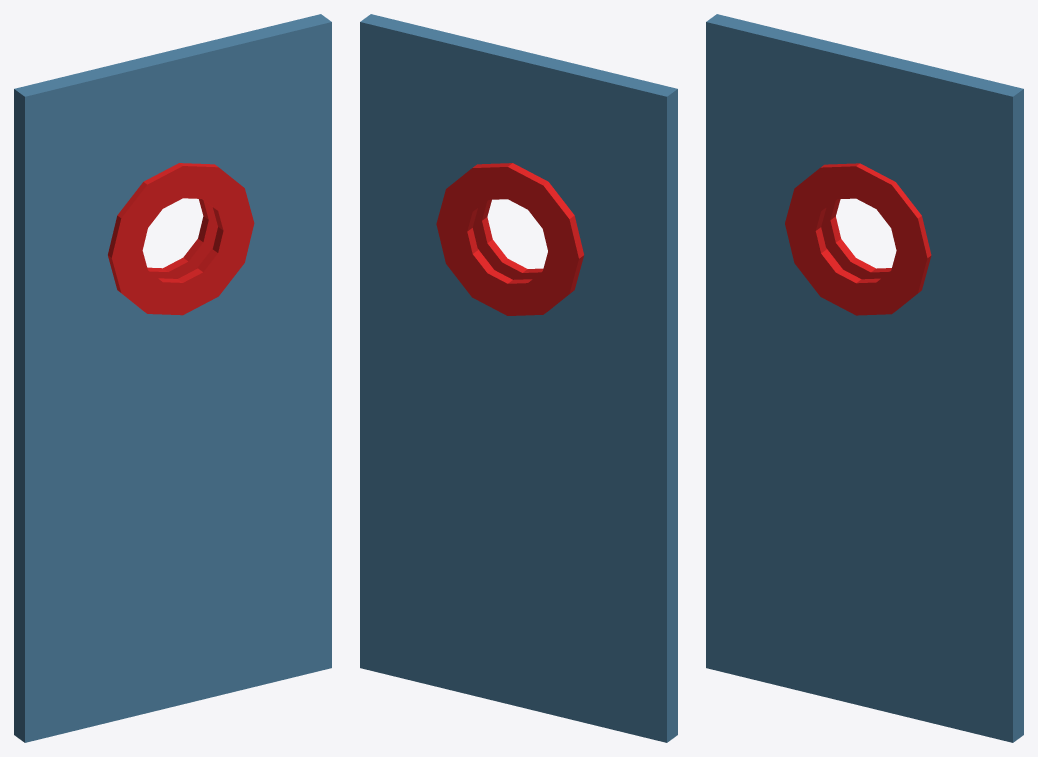
Rendered from Dør_til_Hytte.fbx.
The picture shows the model from 3 angles, left to right: view 1: azimuth 30°, elevation 25°; view 2: azimuth 150°, elevation 25°; view 3: azimuth 330°, elevation 25°; orthographic projection.
Parts seen in each view (by area): view 1: Dør_til_hyt; view 2: Dør_til_hyt; view 3: Dør_til_hyt.
Boxes of the visible parts, left/top/right/bottom form: Dør_til_hyt: left=14, top=14, right=331, bottom=742; Dør_til_hyt: left=360, top=14, right=677, bottom=742; Dør_til_hyt: left=706, top=14, right=1023, bottom=742.
Bounding box in the file's own units: 88.79 × 179 × 10.09.
